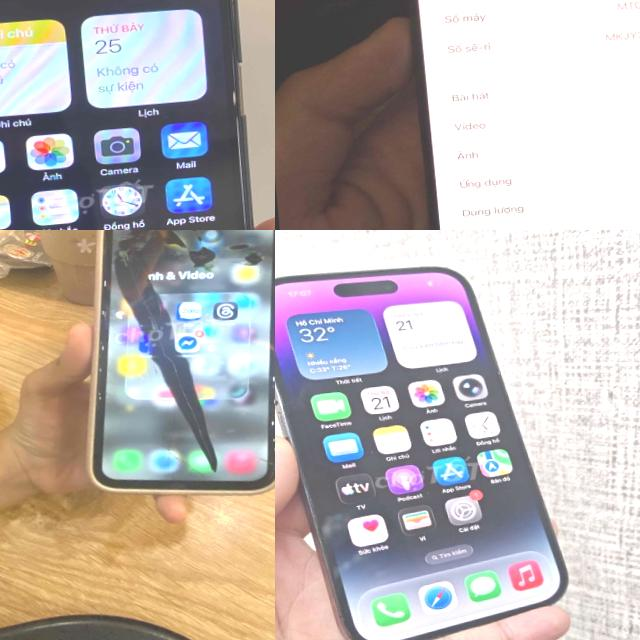physical_damage: (64, 230, 275, 493)
screen_defect: (80, 230, 275, 495)
